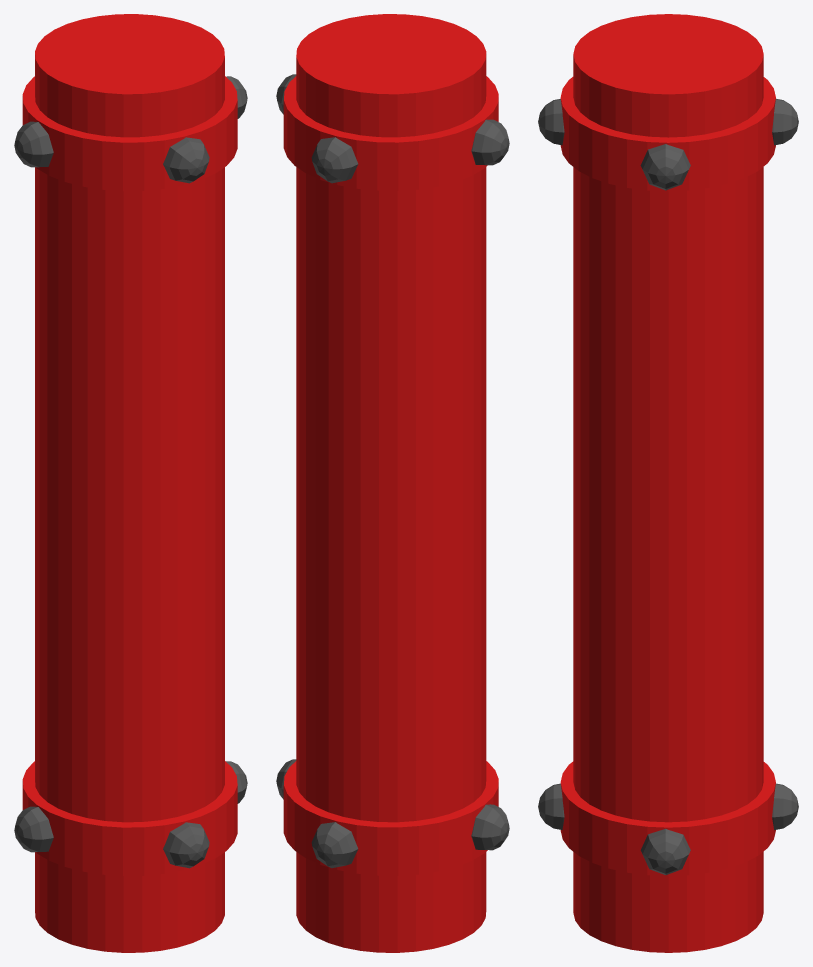
The model's file is Pipe straight.fbx.
3 renders of one model, left to right at view 1: azimuth 30°, elevation 25°; view 2: azimuth 150°, elevation 25°; view 3: azimuth 270°, elevation 25°, orthographic.
Visible parts, largest first — view 1: Pipe straight.012; view 2: Pipe straight.012; view 3: Pipe straight.012.
Boxes of the visible parts, x1,y1,x2,y2 form: Pipe straight.012: [14, 14, 247, 952]; Pipe straight.012: [276, 14, 509, 952]; Pipe straight.012: [538, 14, 798, 952].
Size of the model in its own units: 25.59 by 92.52 by 25.48.
